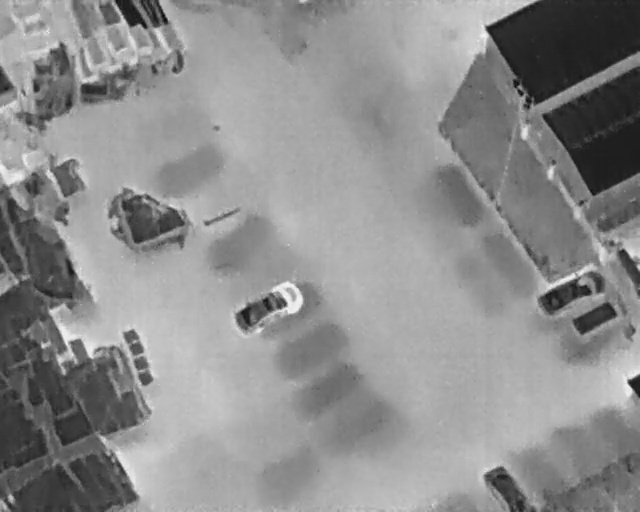Car: (228, 274, 310, 342), (533, 262, 610, 320), (480, 465, 533, 512)
